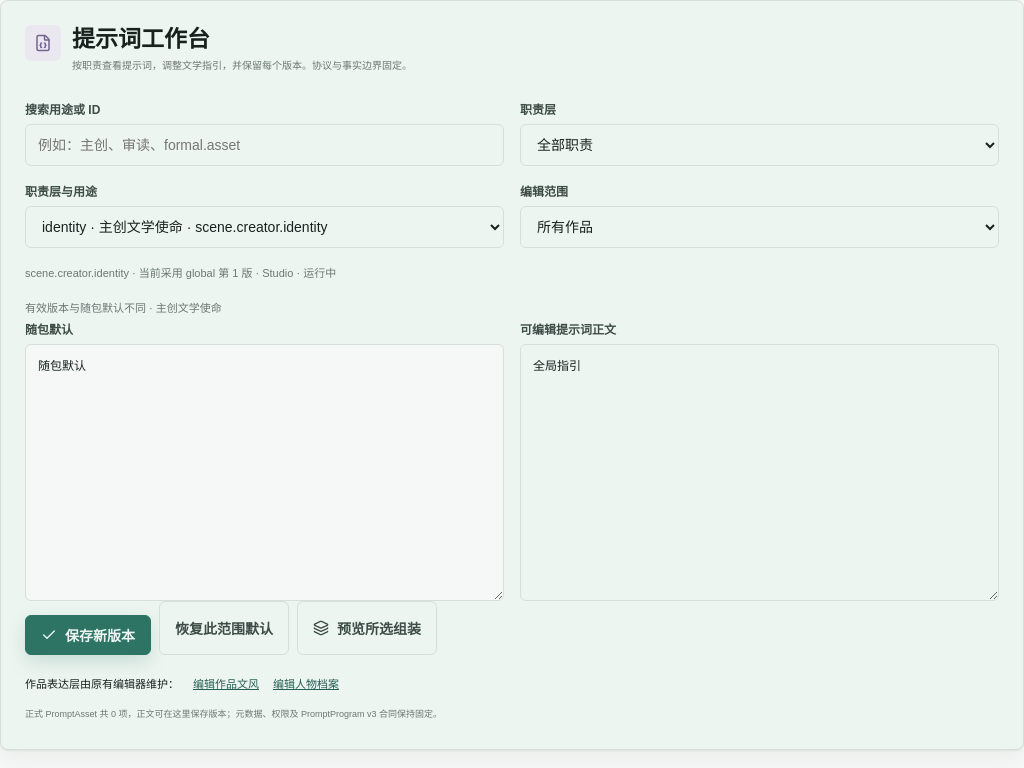
Test: prompt workbench › loads the selected scope before editing so project text cannot leak into a global version
Expected: the text box labelled "可编辑提示词正文" holds "全局指引", [520,344,999,601]
Click the button "恢复此范围默认": click(224, 628) [159,601,289,655]
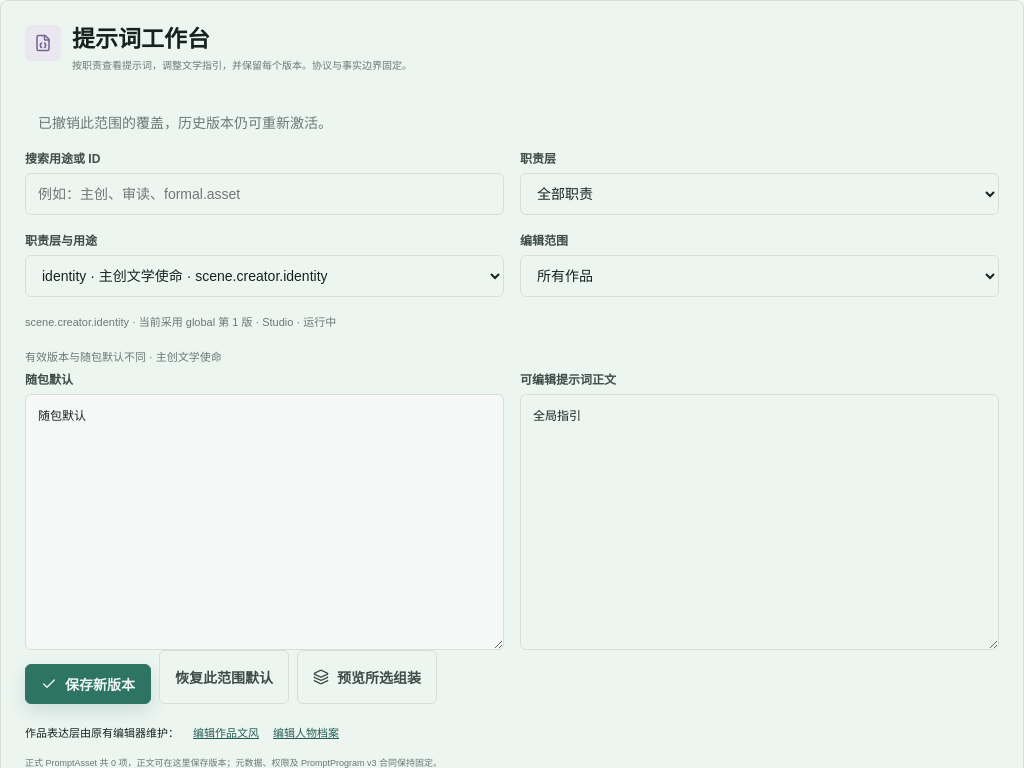
Select "当前作品" in the dropdown named "提示词范围": (760, 276) [520,255,999,297]
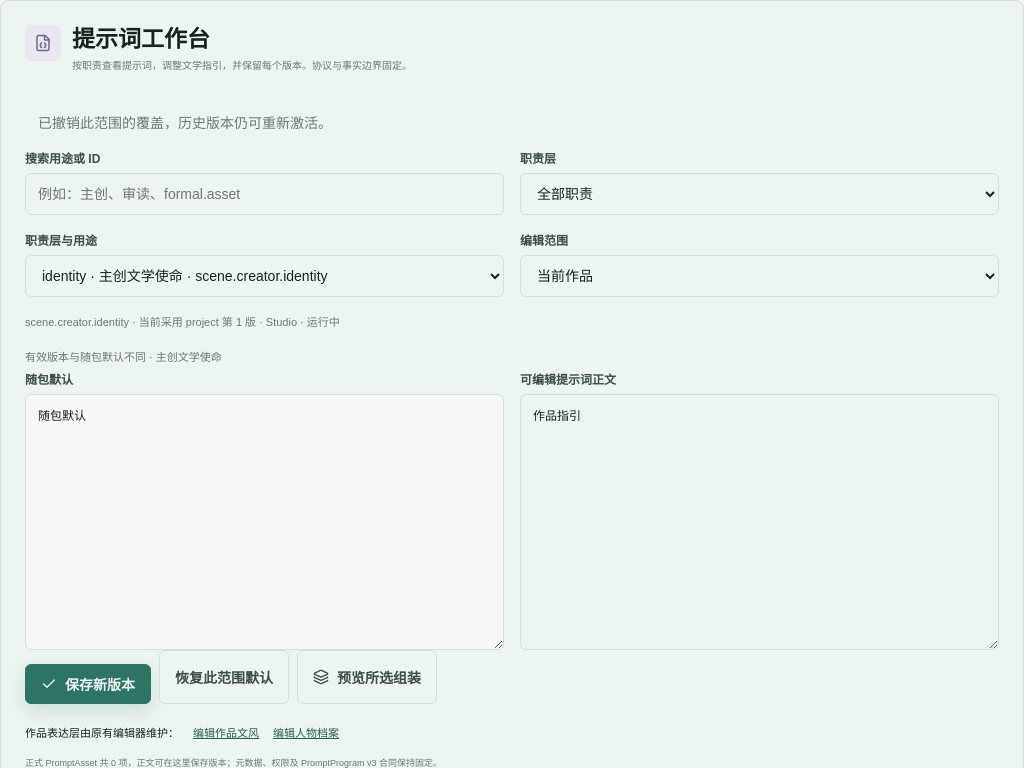
Expected: the text box labelled "可编辑提示词正文" holds "作品指引", [520,394,999,650]
Select "所有作品" in the dropdown named "提示词范围": (760, 276) [520,255,999,297]
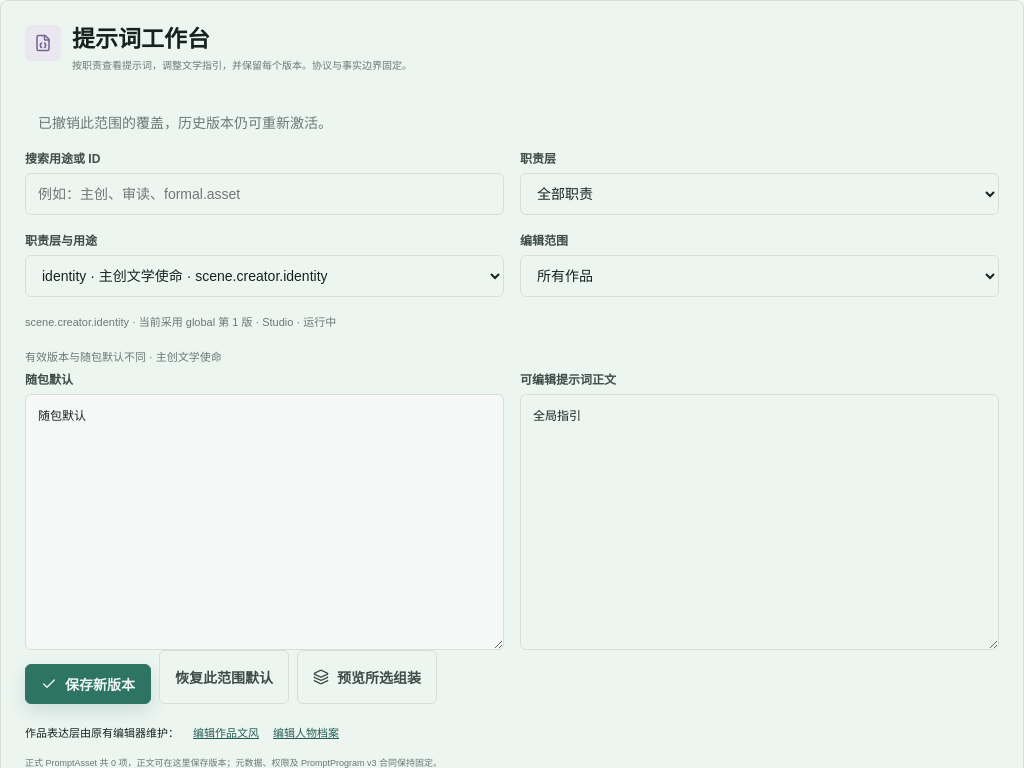
Expected: the text box labelled "可编辑提示词正文" holds "全局指引", [520,394,999,650]
